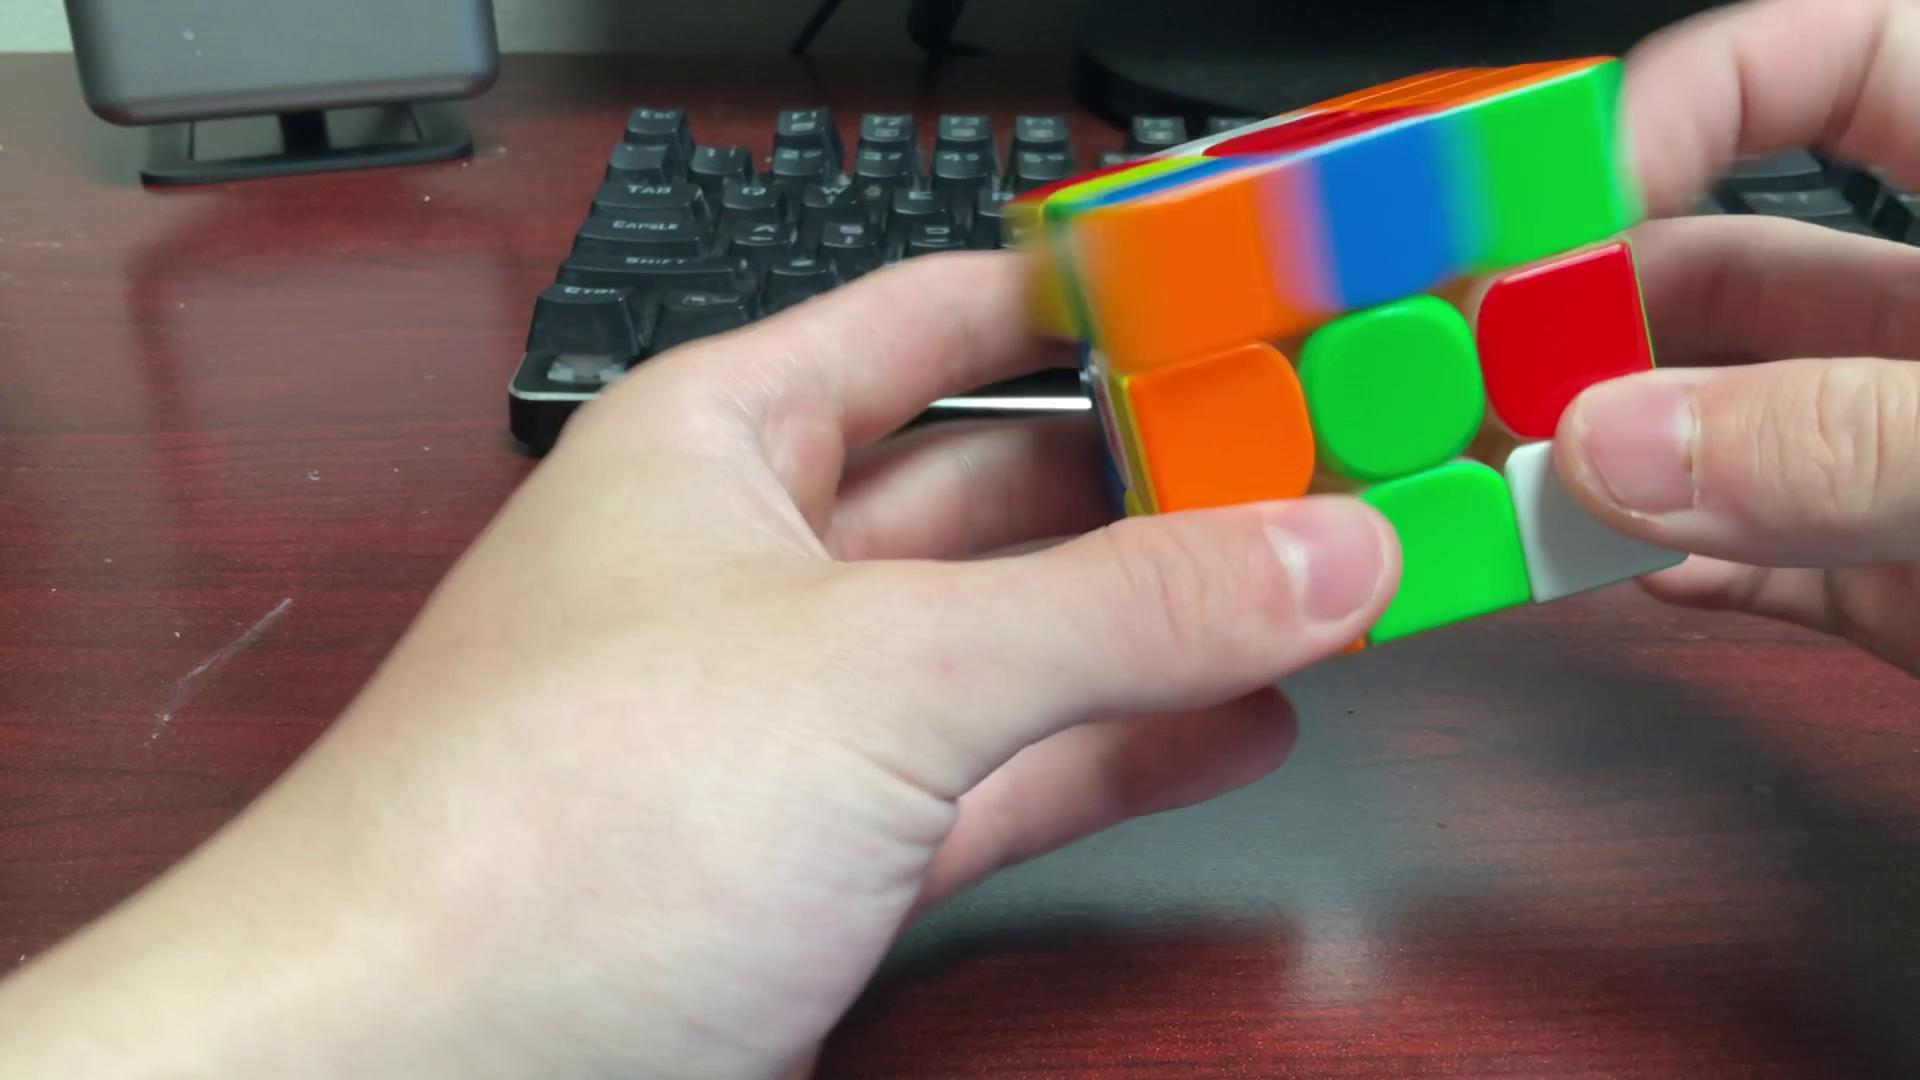Rubiks-Cube: (1001, 34, 1714, 690)
